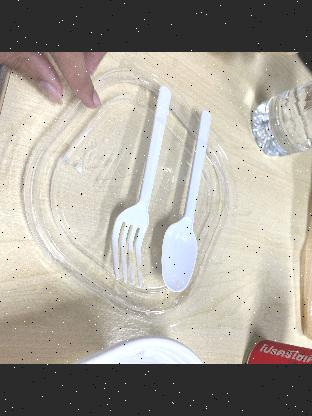Others: (110, 78, 188, 288), (153, 104, 219, 298)
